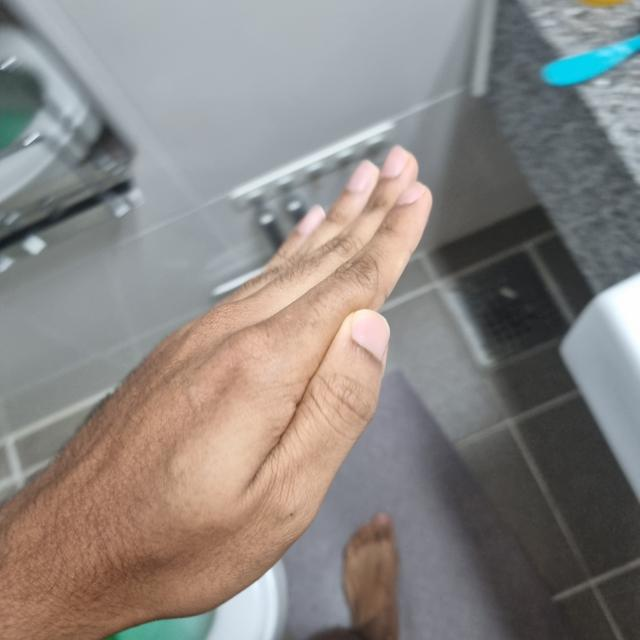Paper: (52, 147, 432, 620)
